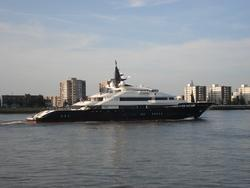yacht: (27, 57, 215, 125)
